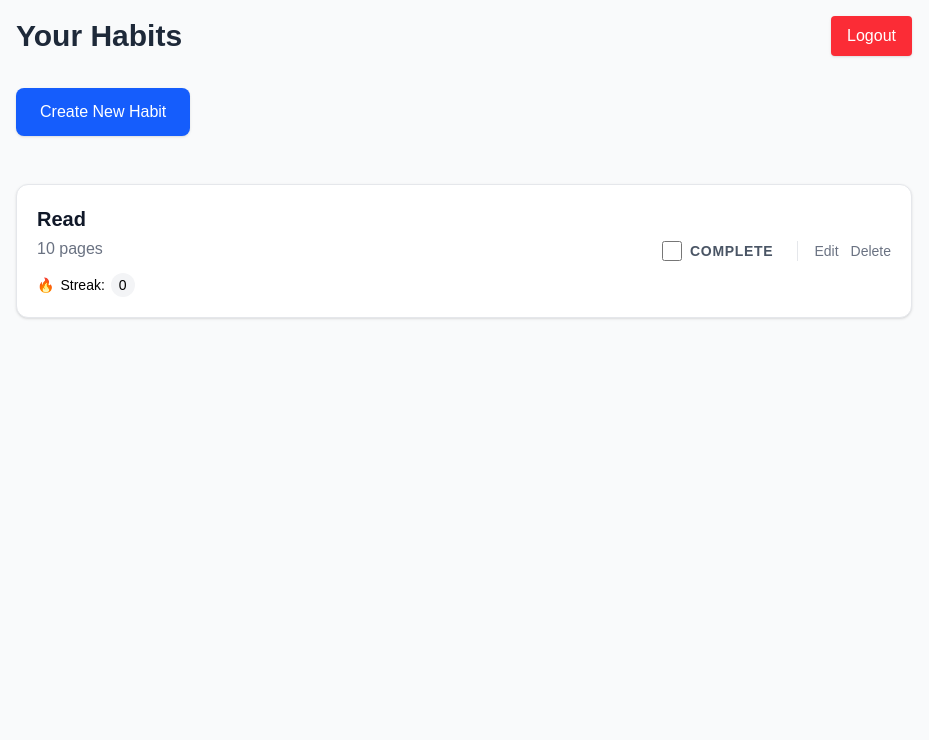
Test: habit form › edits an existing habit and preserves immutable fields
Click the button with test id "habit-edit-read" at (826, 251), box [814,241,838,261]
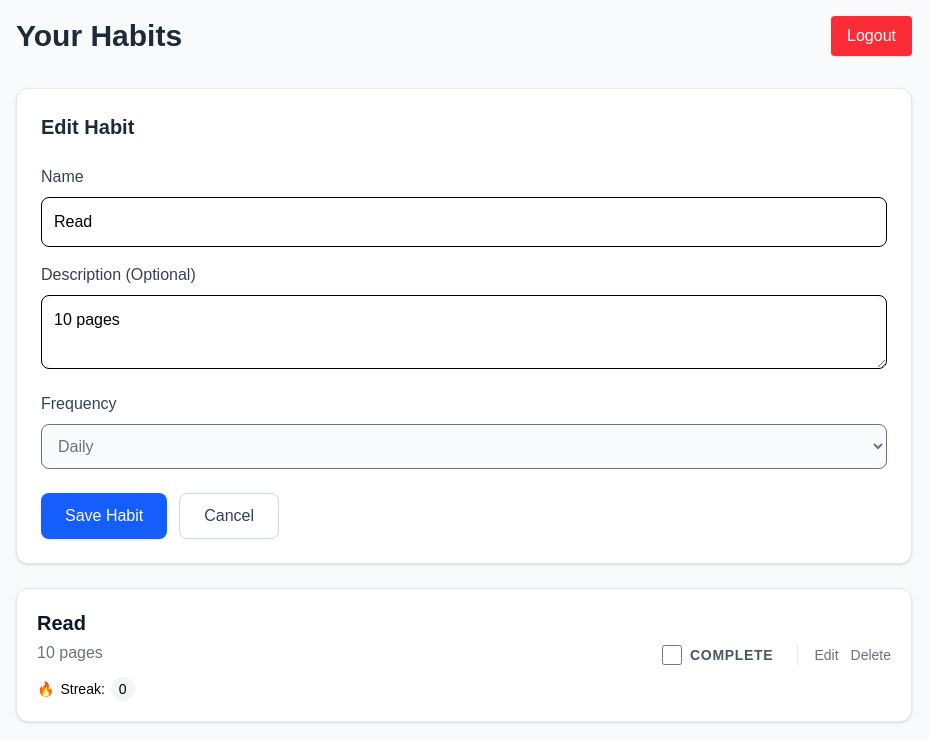
Replace the text in the field with test id "habit-name-input" with "Read Books" at (464, 222), box [41,197,887,247]
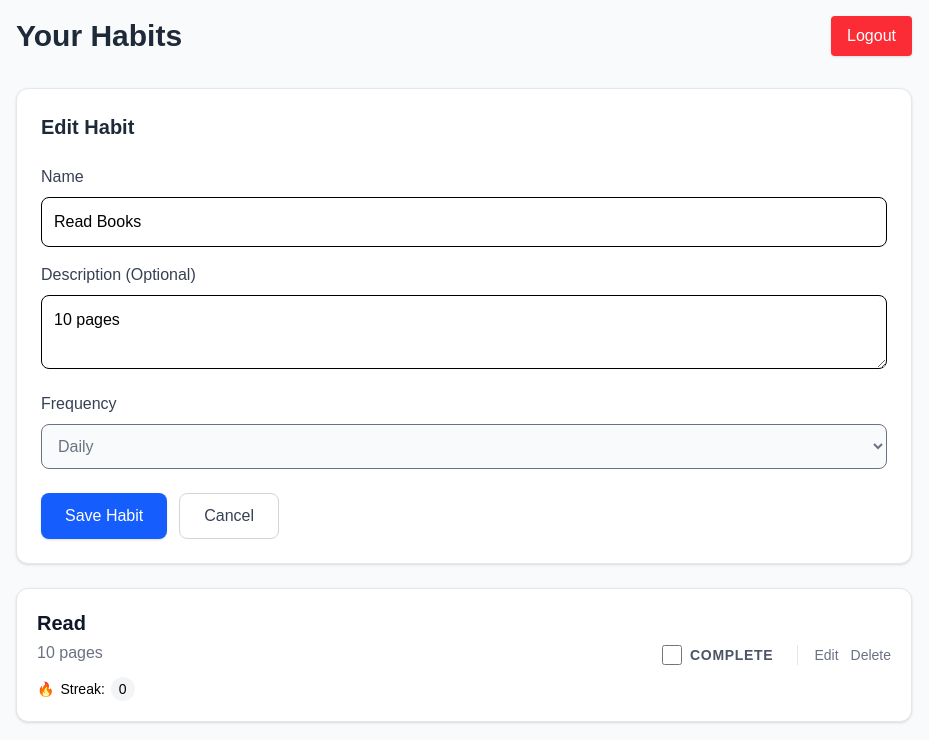
Replace the text in the text box with test id "habit-description-input" with "20 pages" at (464, 332), box [41,295,887,369]
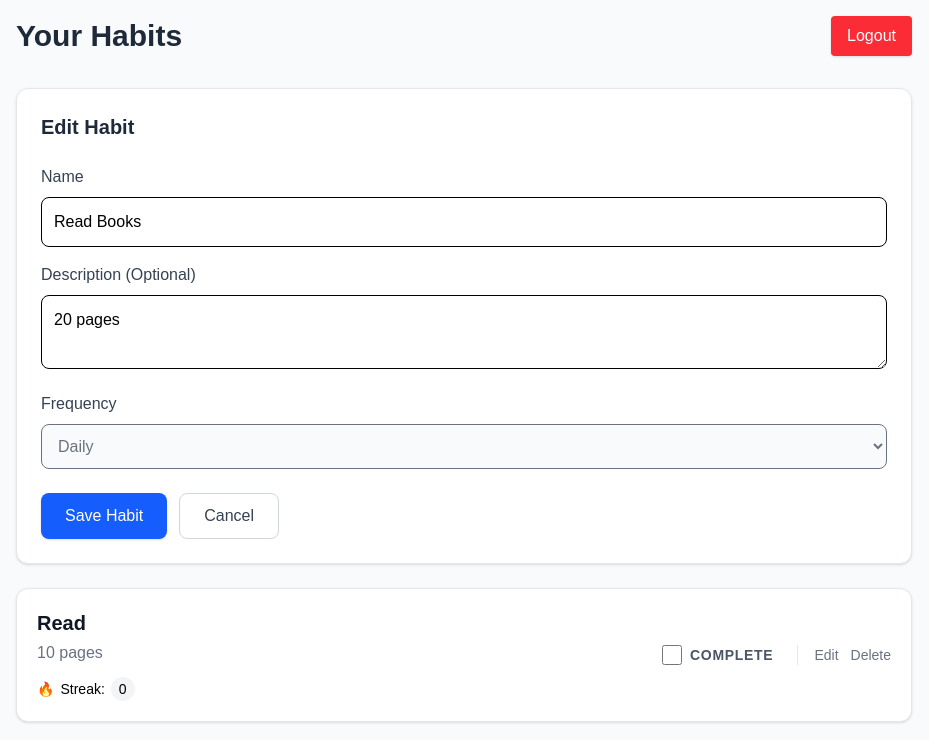
Click the button with test id "habit-save-button" at (104, 516), box [41,493,167,539]
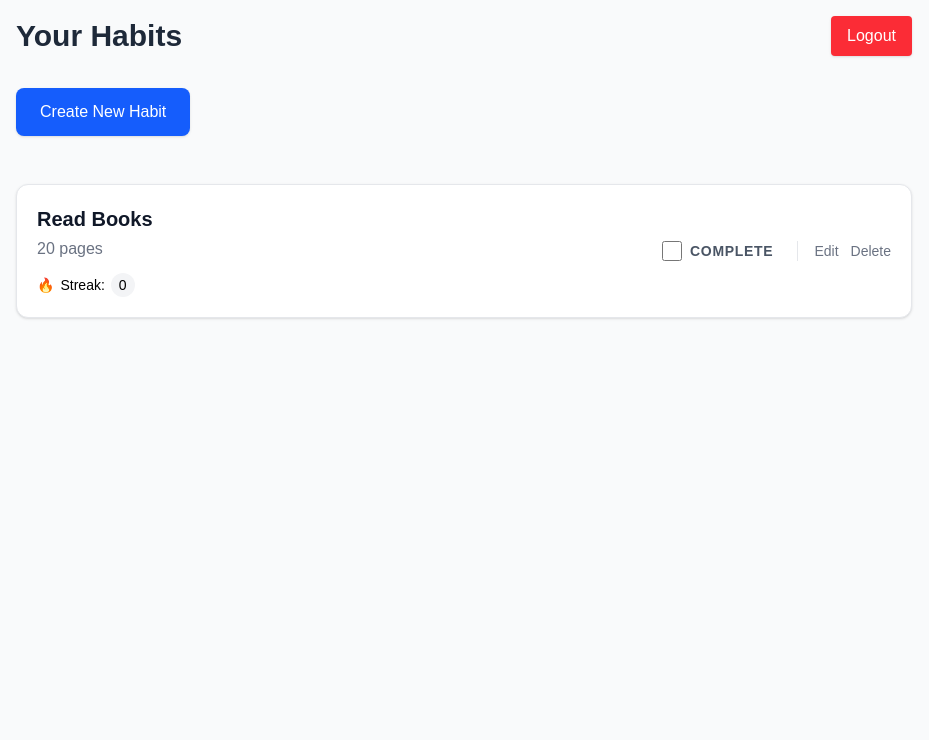
Check: the element with test id "habit-card-read-books" is shown, box [16,184,912,318]
Check: the heading "Read Books" is shown, box [37,205,153,233]
